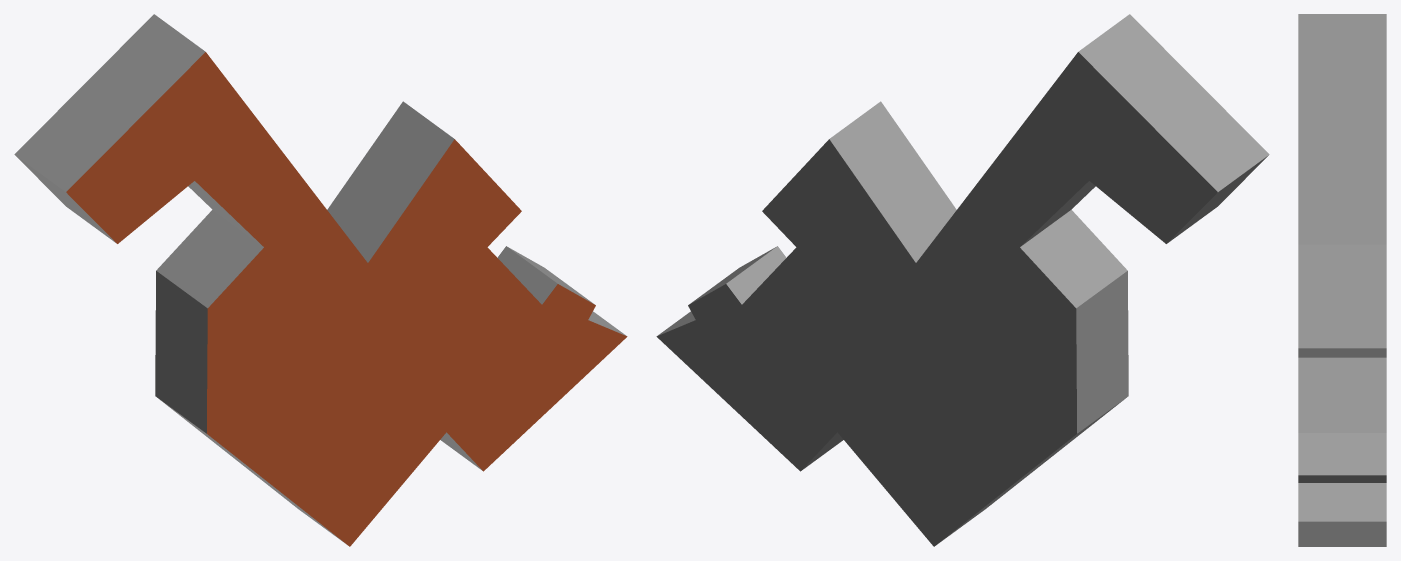
File: construction_2800_assumed_A_Casa_h6m.obj
3 views of the same model, side by side, from view 1: azimuth 30°, elevation 25°; view 2: azimuth 150°, elevation 25°; view 3: azimuth 270°, elevation 25° (orthographic). The views are drawn at different scales.
Parts seen in each view (by area): view 1: construction_2800_assumed_A_Casa; view 2: construction_2800_assumed_A_Casa; view 3: construction_2800_assumed_A_Casa.
Part boxes in pixels (left/top/right/bottom): construction_2800_assumed_A_Casa: left=14, top=14, right=627, bottom=546; construction_2800_assumed_A_Casa: left=656, top=14, right=1269, bottom=546; construction_2800_assumed_A_Casa: left=1298, top=14, right=1386, bottom=546.
Bounding box in the file's own units: 37.68 × 34 × 6.
